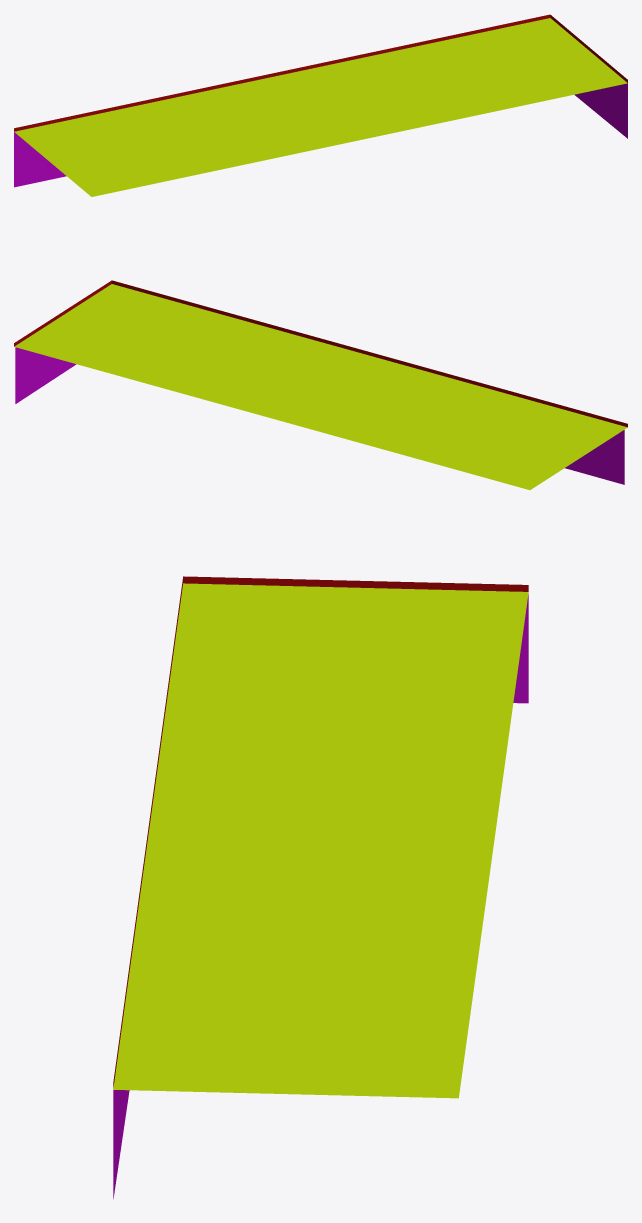
Rendered from bureaux_beiges.glb.
3 renders of one model, top to bottom at view 1: azimuth 30°, elevation 25°; view 2: azimuth 150°, elevation 25°; view 3: azimuth 270°, elevation 25°, orthographic. The views are drawn at different scales.
Visible parts, largest first — view 1: bureaux_beiges; view 2: bureaux_beiges; view 3: bureaux_beiges.
Part boxes in pixels (bbox=[...]): bureaux_beiges: bbox=[14, 14, 627, 196]; bureaux_beiges: bbox=[14, 280, 627, 489]; bureaux_beiges: bbox=[113, 576, 528, 1199].
Size of the model in its own units: 55.31 by 5.93 by 18.86.
